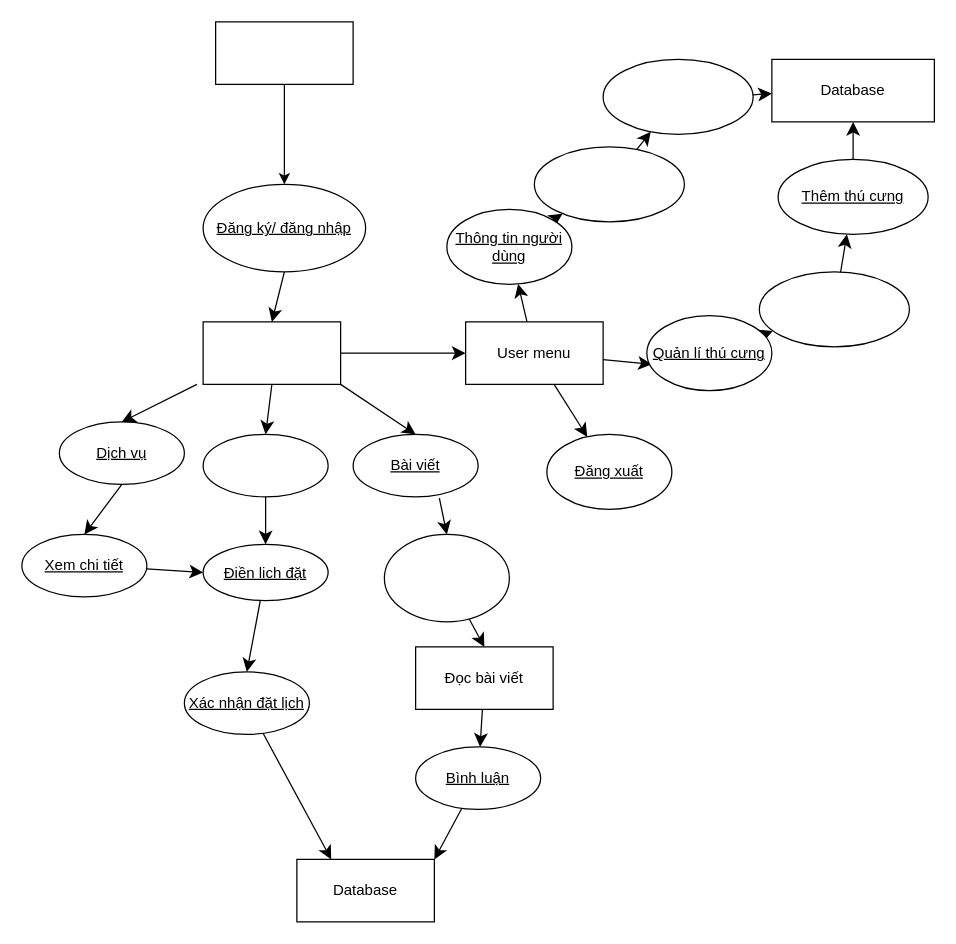
This 956x944 diagram has some shape labels left out. The shapes that lost their labels are listed below. From the top down, each one's centre as x and y in pixels, then its label:
At (x=283, y=52): "User".
At (x=677, y=96): "Lưu thông tin".
At (x=608, y=184): "Chỉnh sửa thông tin".
At (x=833, y=309): "Xem danh sách thú cưng".
At (x=271, y=352): "Trang chủ".
At (x=265, y=465): "Đặt lịch".
At (x=446, y=577): "Xem danh sách bài viết".
